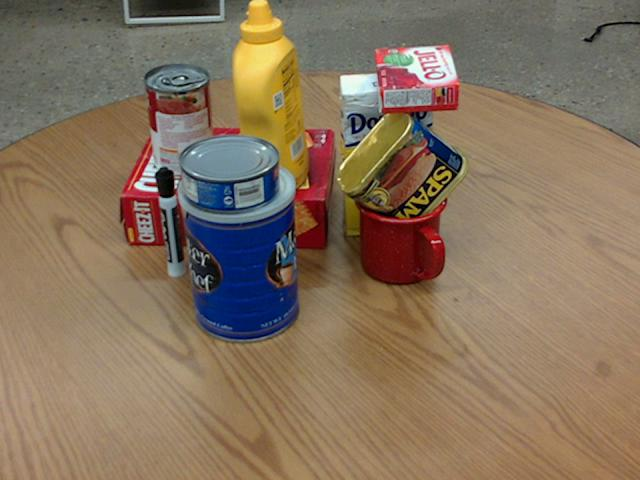cracker_box: (119, 126, 333, 248)
gelatin_box: (376, 45, 459, 111)
large_marker: (155, 167, 186, 278)
master_chef_can: (175, 153, 300, 341)
mug: (356, 174, 450, 285)
mustard_bottle: (233, 0, 308, 198)
potted_meat_can: (335, 106, 469, 236)
sugar_box: (341, 71, 435, 237)
tomato_soup_can: (143, 63, 213, 176)
tuna_fish_can: (178, 132, 279, 211)
